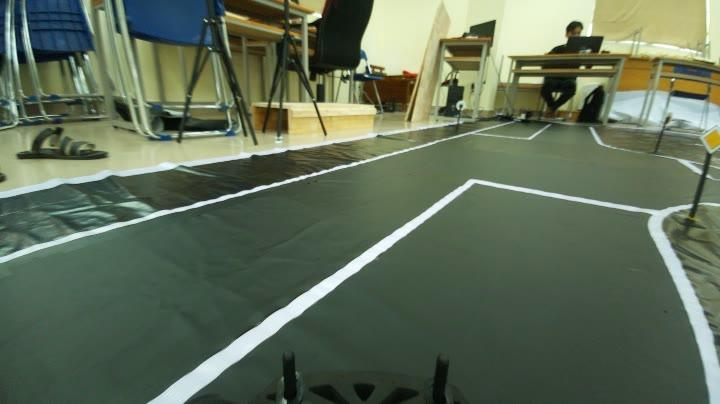priority: (693, 118, 720, 157)
